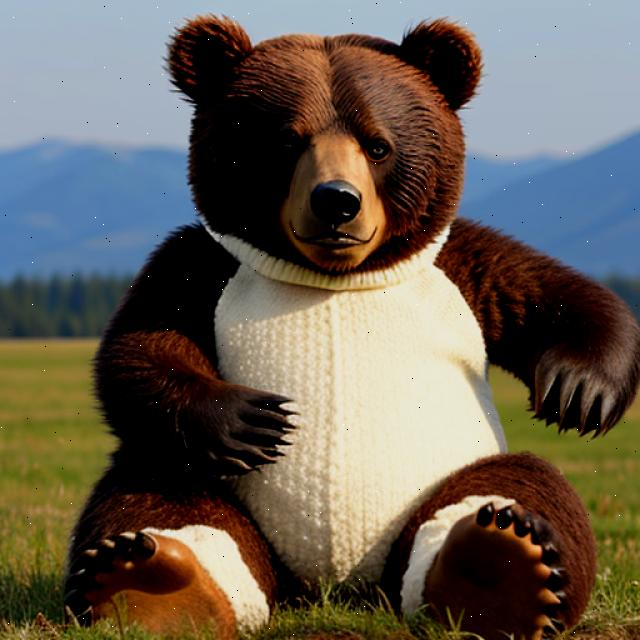bear: (128, 17, 626, 640)
